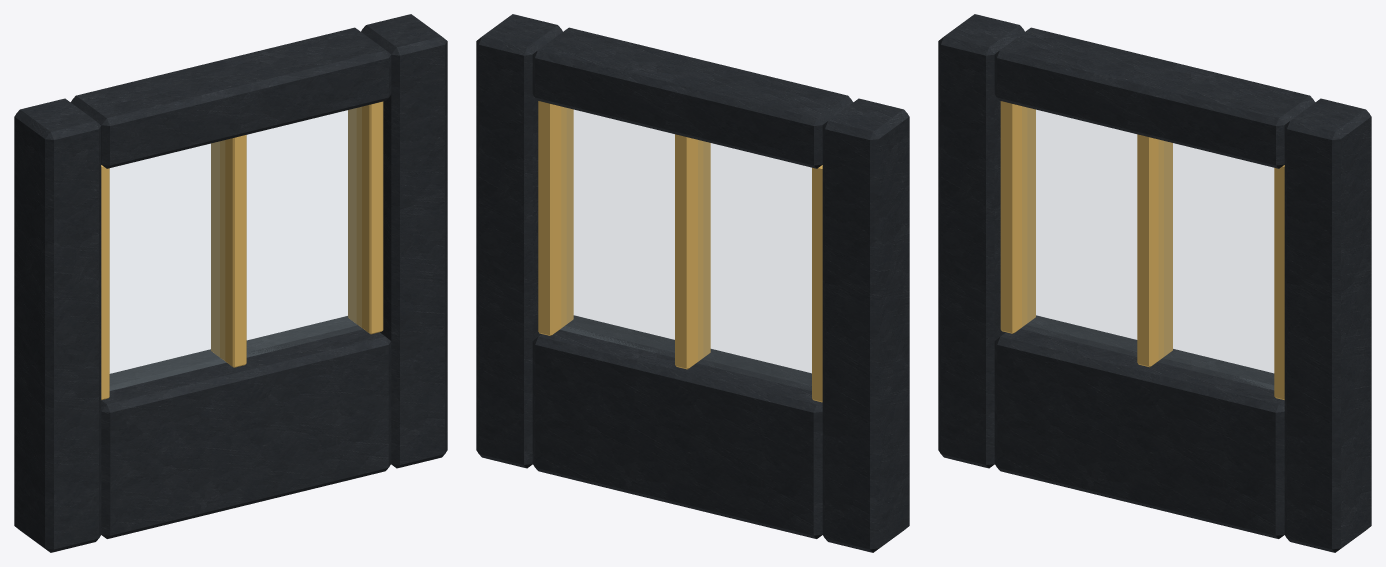
File: train_cab_wall_front.gltf
The picture shows the model from 3 angles, left to right: view 1: azimuth 30°, elevation 25°; view 2: azimuth 150°, elevation 25°; view 3: azimuth 330°, elevation 25°; orthographic projection.
Size of the model in its own units: 1 by 1 by 0.16.
4 materials, 2 textured.
